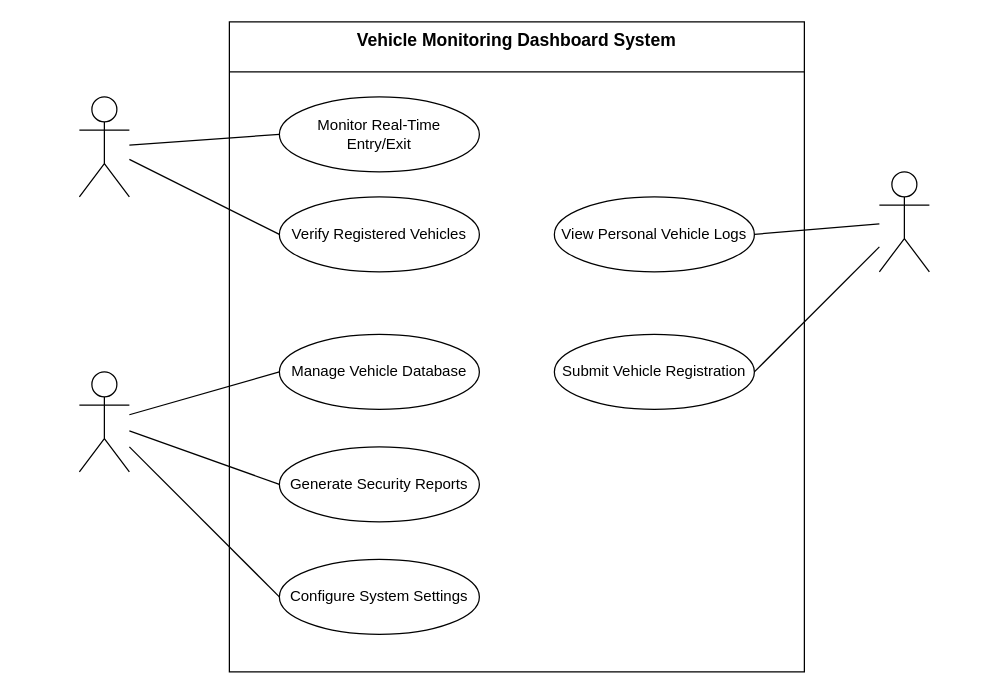
Some shapes in this 996 by 694 pixel diagram are drawn without their labels. The shapes that lost their labels are listed below. From the top down, each one's centre as x and y in pixels, then its label:
[103,146]: Security Personnel
[903,221]: Vehicle Owner / User
[103,421]: Dashboard Administrator
